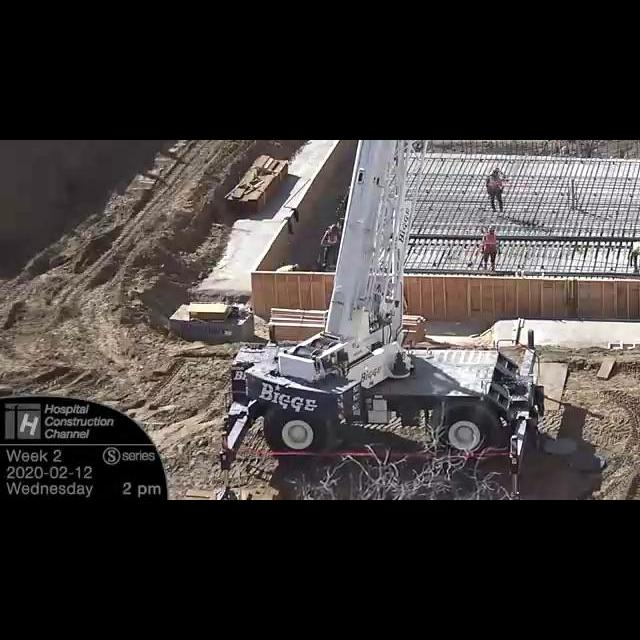Hardhat: (491, 168, 499, 174), (330, 224, 337, 230), (488, 225, 495, 230)
Person: (320, 224, 341, 268), (486, 167, 504, 212), (482, 225, 499, 270), (630, 243, 640, 271)
Safety Vest: (483, 234, 497, 247), (489, 176, 501, 189), (327, 231, 338, 244)
machinery: (218, 140, 546, 484)
